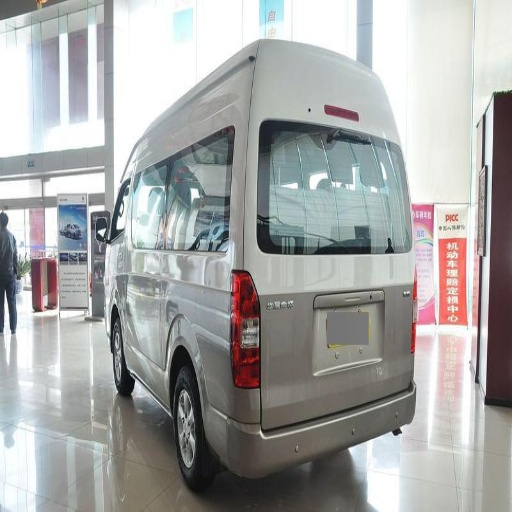back_bumper: (213, 379, 412, 474)
back_left_light: (229, 272, 259, 387)
trunk: (113, 255, 415, 420)
